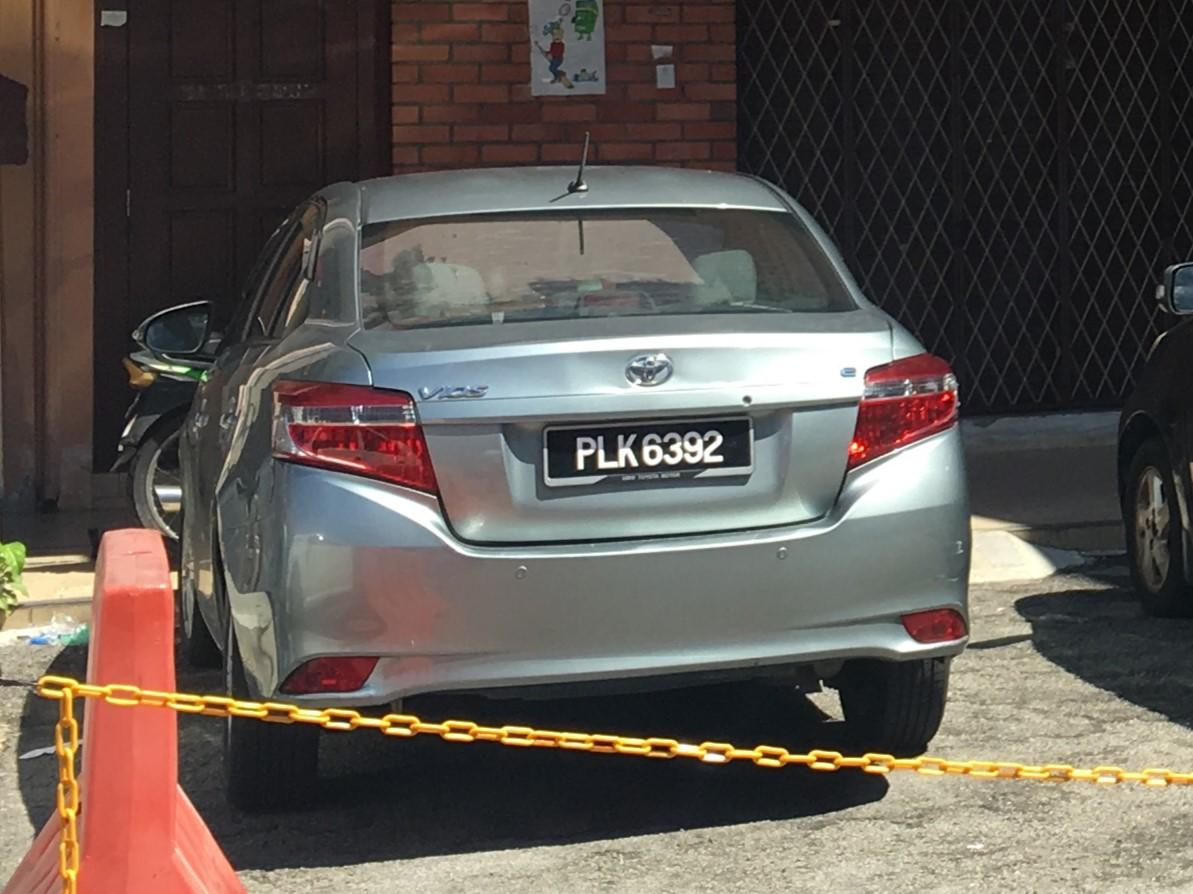License Plate: (550, 419, 751, 479)
